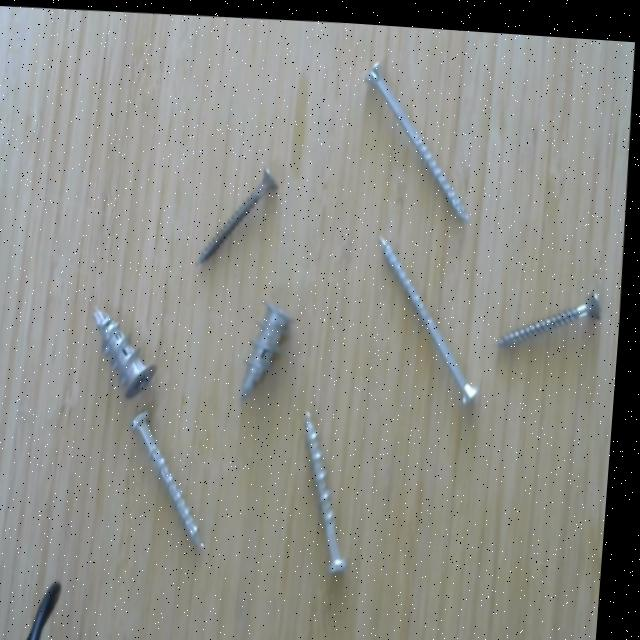Black screw: (192, 153, 290, 270), (497, 273, 613, 355)
Long screw: (373, 217, 495, 410), (356, 49, 482, 227)
Medium screw: (129, 399, 225, 565), (305, 395, 361, 578)
Short screw: (89, 292, 170, 412), (237, 288, 308, 410)
